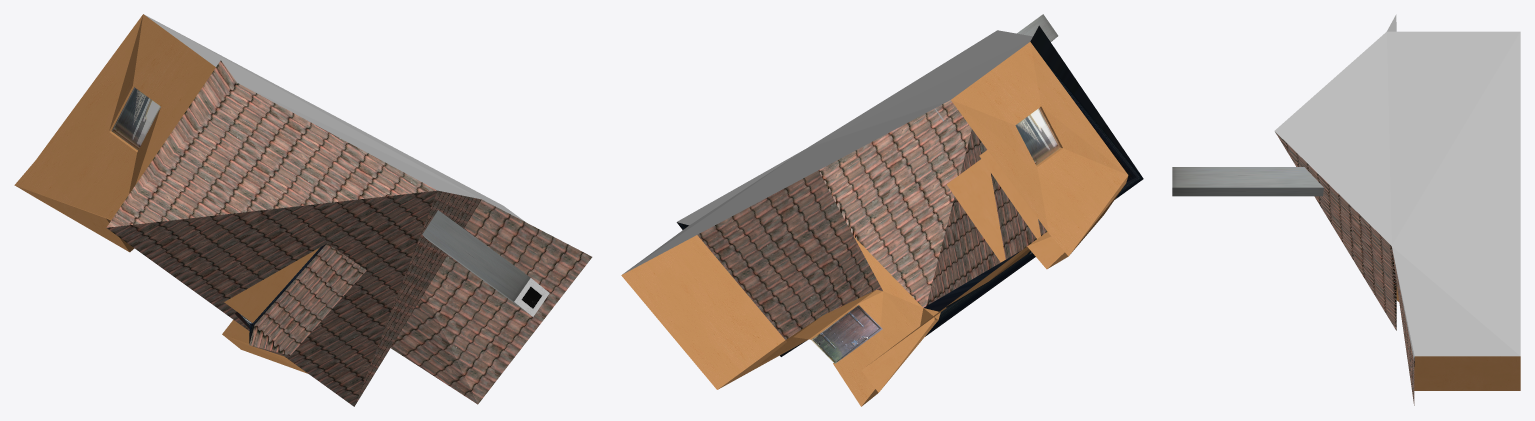
The model's file is Pikk_29a_2-origo.obj.
The picture shows the model from 3 angles, left to right: view 1: azimuth 30°, elevation 25°; view 2: azimuth 150°, elevation 25°; view 3: azimuth 270°, elevation 25°; orthographic projection. The views are drawn at different scales.
Parts seen in each view (by area): view 1: Pikk_29a_2; view 2: Pikk_29a_2; view 3: Pikk_29a_2.
Part boxes in pixels (bbox=[...]): Pikk_29a_2: bbox=[14, 14, 592, 406]; Pikk_29a_2: bbox=[621, 14, 1143, 406]; Pikk_29a_2: bbox=[1172, 14, 1520, 405].
Size of the model in its own units: 13.19 by 10.5 by 11.09.
